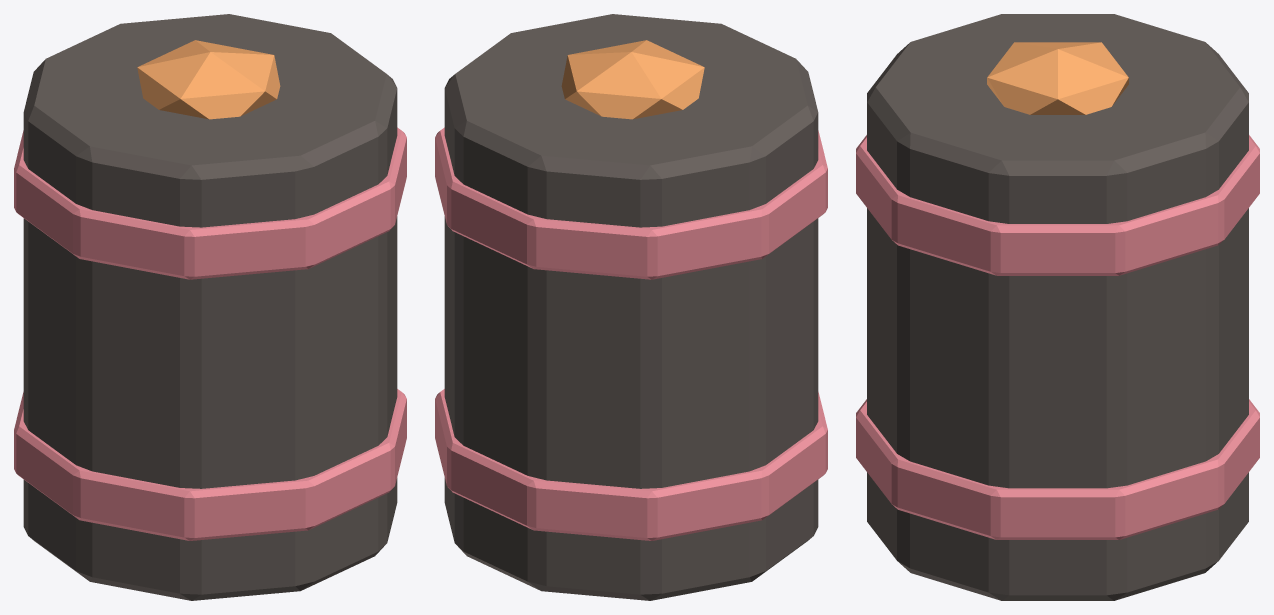
The model's file is Env_ExplosiveBarrel.fbx.
The picture shows the model from 3 angles, left to right: view 1: azimuth 30°, elevation 25°; view 2: azimuth 150°, elevation 25°; view 3: azimuth 270°, elevation 25°; orthographic projection.
Visible parts, largest first — view 1: BarrelBody, BandBot, BandTop, HazardRune; view 2: BarrelBody, BandBot, BandTop, HazardRune; view 3: BarrelBody, BandTop, BandBot, HazardRune.
Boxes of the visible parts, x1,y1,x2,y2 form: BarrelBody: (23, 14, 397, 600); BandBot: (14, 389, 406, 540); BandTop: (14, 127, 406, 279); HazardRune: (137, 40, 280, 119); BarrelBody: (444, 14, 818, 600); BandBot: (435, 389, 827, 540); BandTop: (435, 127, 827, 279); HazardRune: (561, 40, 704, 119); BarrelBody: (867, 14, 1248, 600); BandTop: (856, 135, 1259, 275); BandBot: (856, 399, 1259, 539); HazardRune: (987, 42, 1128, 114).
Size of the model in its own units: 0.8369 by 1.14 by 0.8726.
